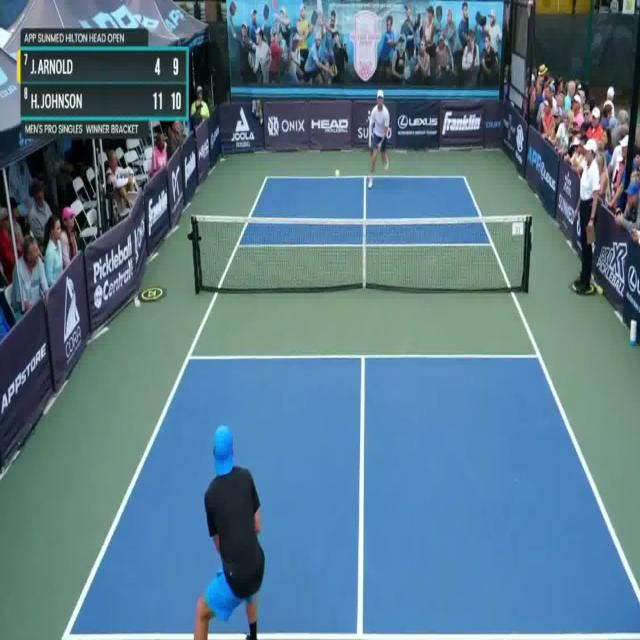Court: (64, 177, 640, 635), (333, 166, 342, 179)
